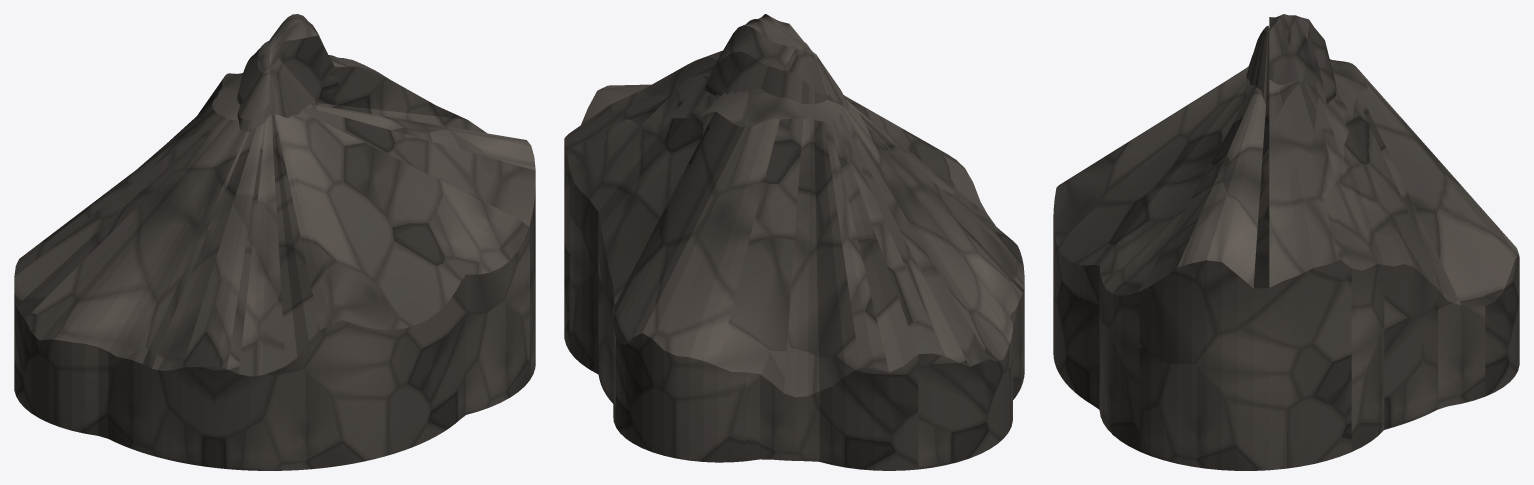
Rendered from rim_rock.glb.
3 renders of one model, left to right at view 1: azimuth 30°, elevation 25°; view 2: azimuth 150°, elevation 25°; view 3: azimuth 270°, elevation 25°, orthographic. The views are drawn at different scales.
Visible parts, largest first — view 1: mega, shard; view 2: mega, shard; view 3: mega, shard.
Boxes of the visible parts, left/top/right/bottom form: mega: left=14, top=55, right=535, bottom=470; shard: left=237, top=14, right=339, bottom=131; mega: left=564, top=50, right=1024, bottom=470; shard: left=704, top=14, right=848, bottom=109; mega: left=1053, top=59, right=1519, bottom=470; shard: left=1246, top=14, right=1336, bottom=111.
Bounding box in the file's own units: 6.44 × 4.77 × 5.66.
1 material, 1 textured.
